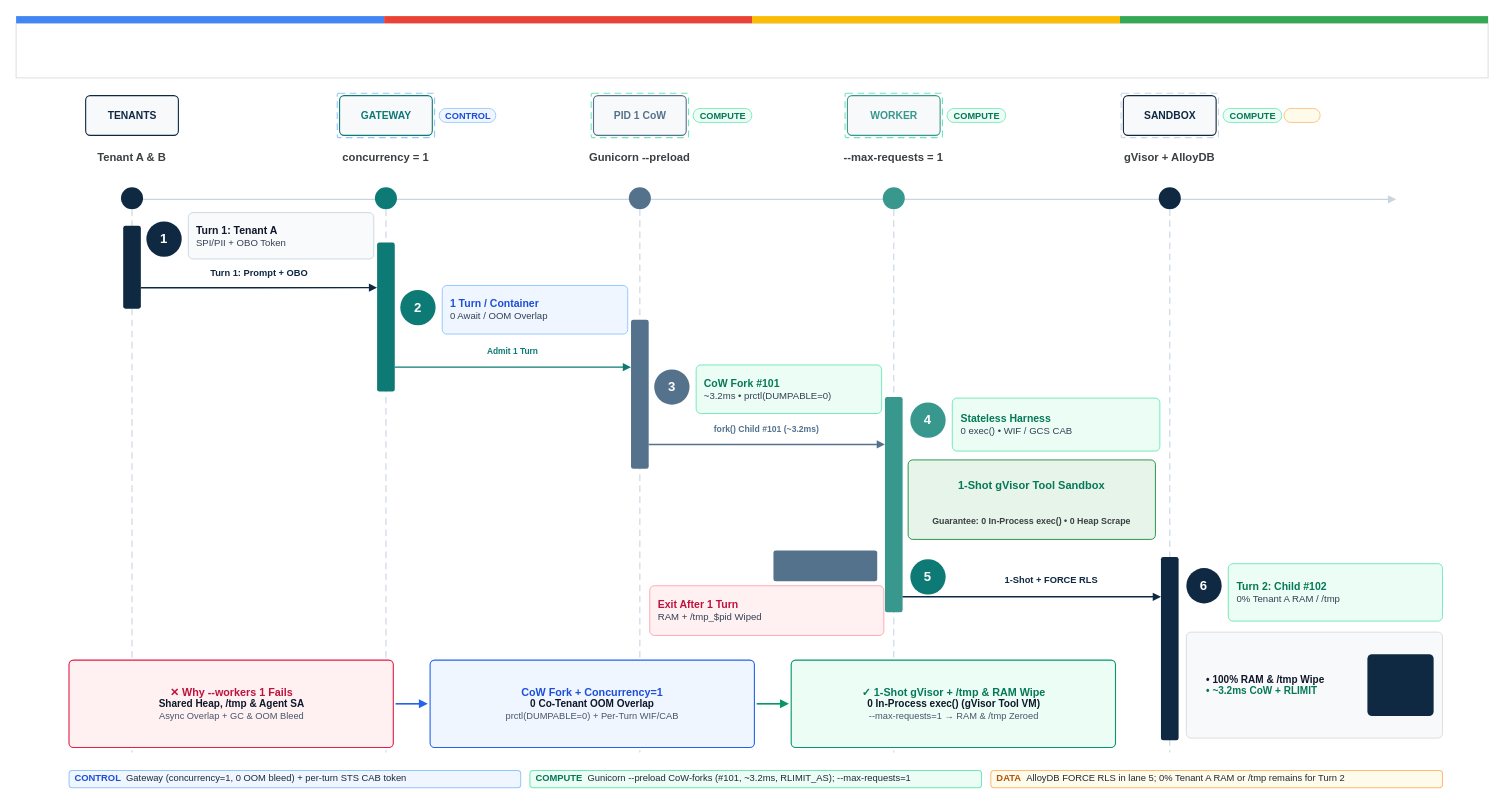
This 1504x804 diagram has some shape labels left out. Here are the shapes that lost their labels. From the top down, the box of each, then its label:
(15, 22, 1488, 78): WS2 - PART 2 (Mode A) - Stateless Pool CoW Pre-Fork & 1-Shot gVisor
(1283, 108, 1320, 122): DATA
(773, 550, 877, 581): sys.exit(0)
(1367, 654, 1433, 716): 0% BLEED
